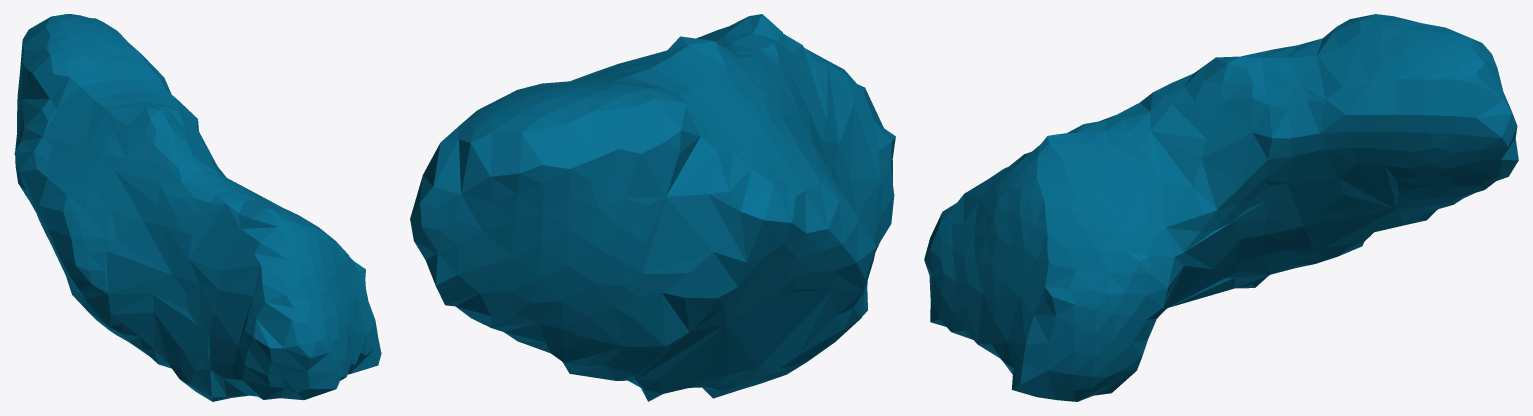
File: Model_305_RH__Ventrolateral_thalamic_nucleus__dorsal_part_(VLD).obj
The picture shows the model from 3 angles, left to right: view 1: azimuth 30°, elevation 25°; view 2: azimuth 150°, elevation 25°; view 3: azimuth 270°, elevation 25°; orthographic projection. The views are drawn at different scales.
Bounding box in the file's own units: 1.2 × 1.21 × 2.18.
